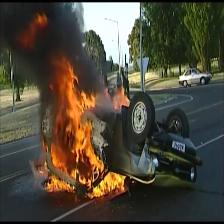fire: (52, 74, 89, 196), (91, 157, 124, 198)
smoke: (3, 4, 78, 60)
